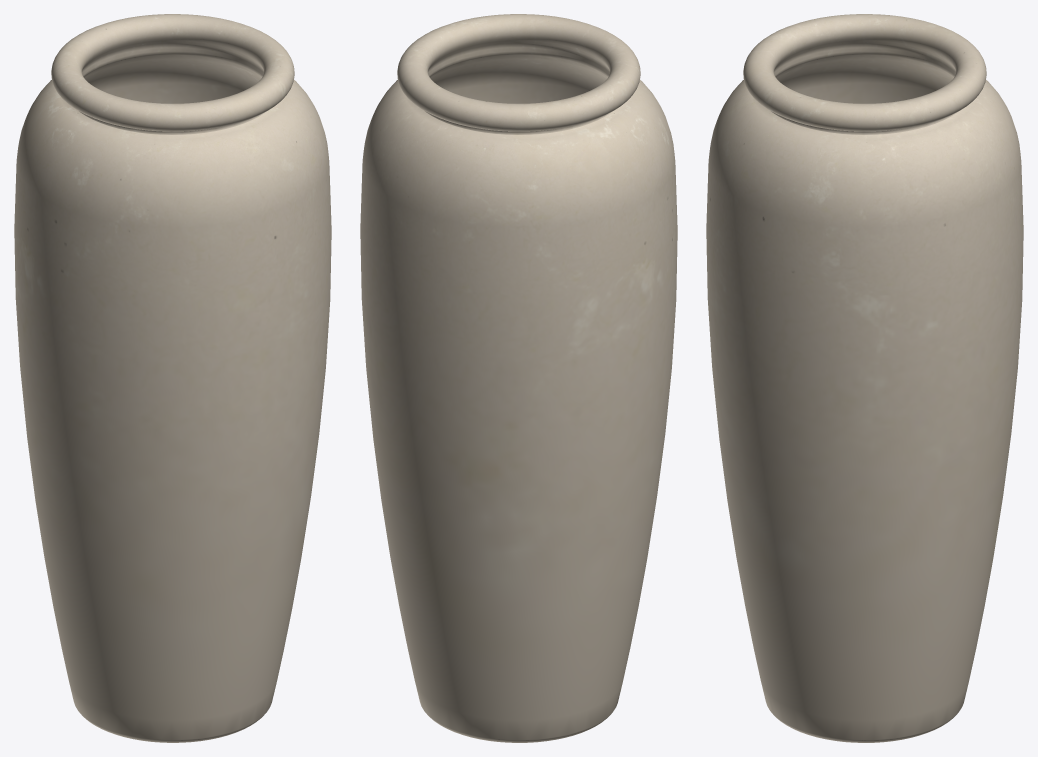
File: VasoAlto.fbx
3 views of the same model, side by side, from view 1: azimuth 30°, elevation 25°; view 2: azimuth 150°, elevation 25°; view 3: azimuth 270°, elevation 25° (orthographic).
Parts seen in each view (by area): view 1: VasoAlto; view 2: VasoAlto; view 3: VasoAlto.
Part boxes in pixels (<box>): VasoAlto: <box>14,14,331,742</box>; VasoAlto: <box>360,14,677,742</box>; VasoAlto: <box>706,14,1023,742</box>.
Size of the model in its own units: 36.69 by 82.1 by 36.69.
